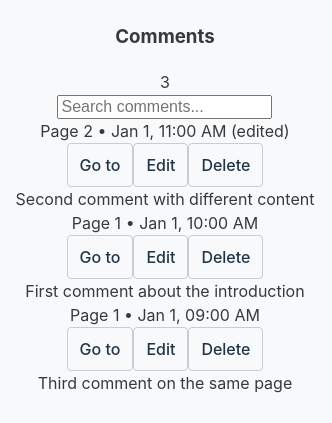
Scenario: CommentList › Edit Functionality › enters edit mode when edit button is clicked
This screenshot has width=332, height=423.
Click the button "Edit" below "Jan 1, 11:00 AM" at (161, 165), box [133,143,188,187]
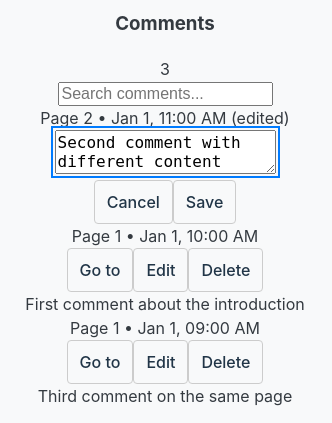
Check: the text box showing "Second comment with different content" is shown, box [54,130,276,174]
Check: the button "Save" is shown, box [173,180,236,224]
Check: the button "Cancel" is shown, box [94,180,173,224]
